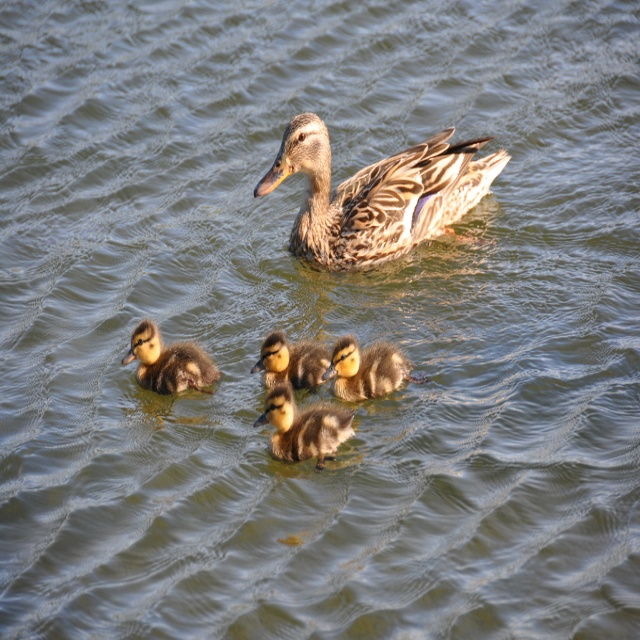Duck: (262, 104, 520, 272), (124, 318, 220, 416), (253, 383, 351, 466), (321, 333, 426, 405), (249, 324, 331, 394)
